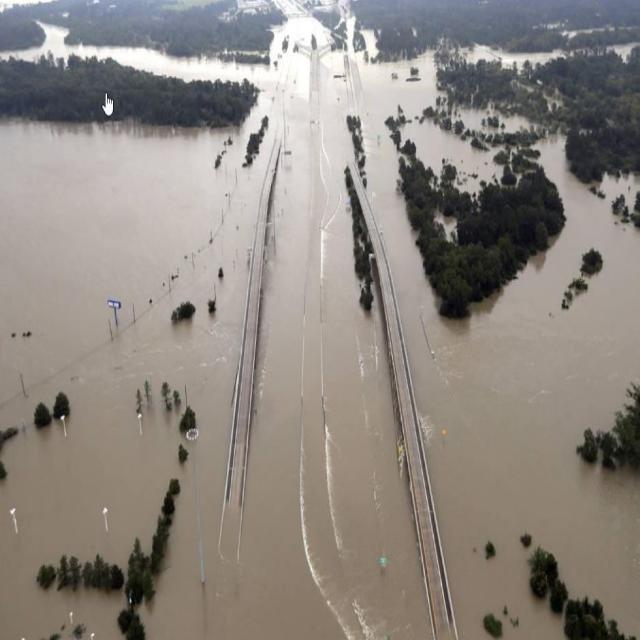flooded_areas: (415, 34, 639, 526), (3, 123, 214, 639), (236, 27, 398, 639)
